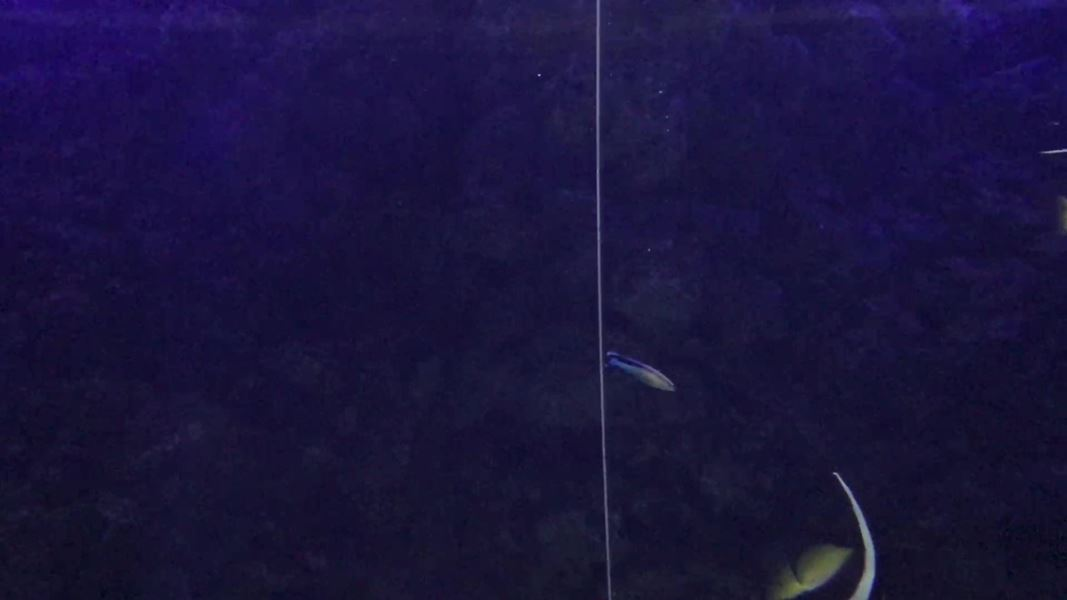Bluesteak cleaner wrasse: (591, 342, 688, 404)
